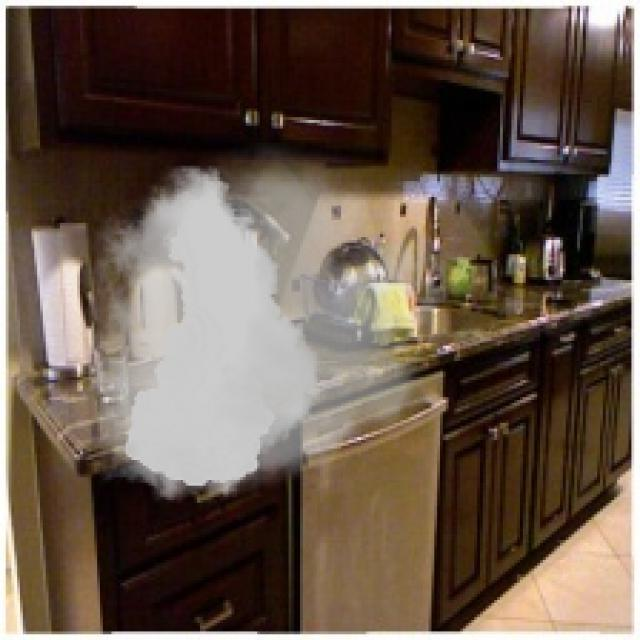Smoke: (57, 143, 463, 512)
